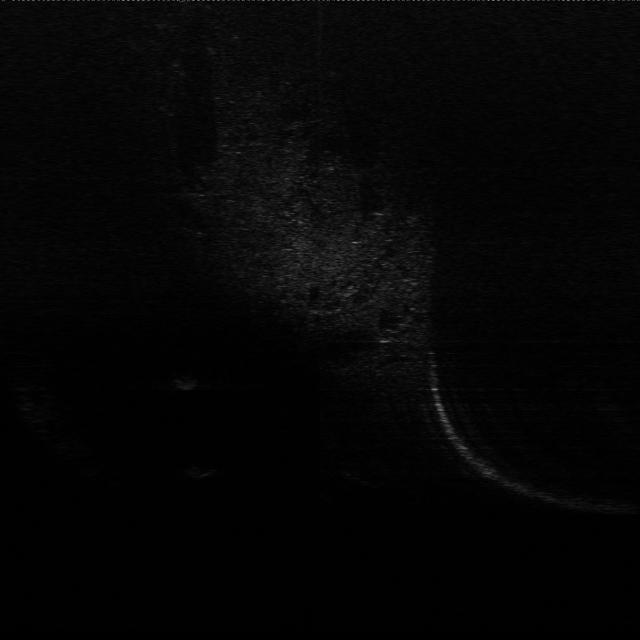cube: (187, 462, 217, 479)
square cage: (170, 370, 206, 394)
